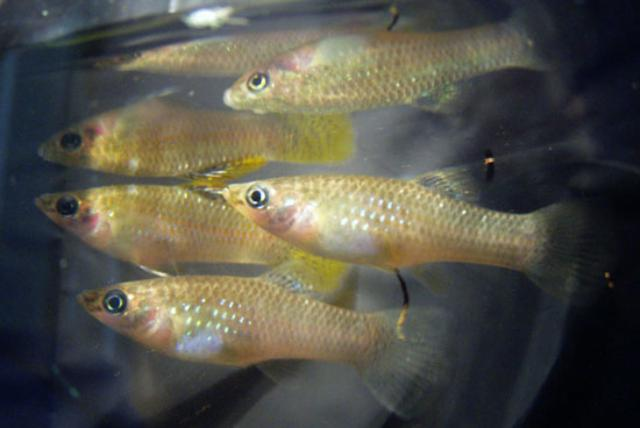Mulut: (67, 276, 115, 324), (218, 78, 255, 128), (27, 180, 59, 236), (216, 174, 248, 222), (22, 124, 56, 166)
Sirip Ekor: (346, 292, 474, 428), (515, 159, 617, 320), (504, 0, 588, 98)
Sirip Punggung: (420, 150, 500, 220), (257, 243, 331, 308)
